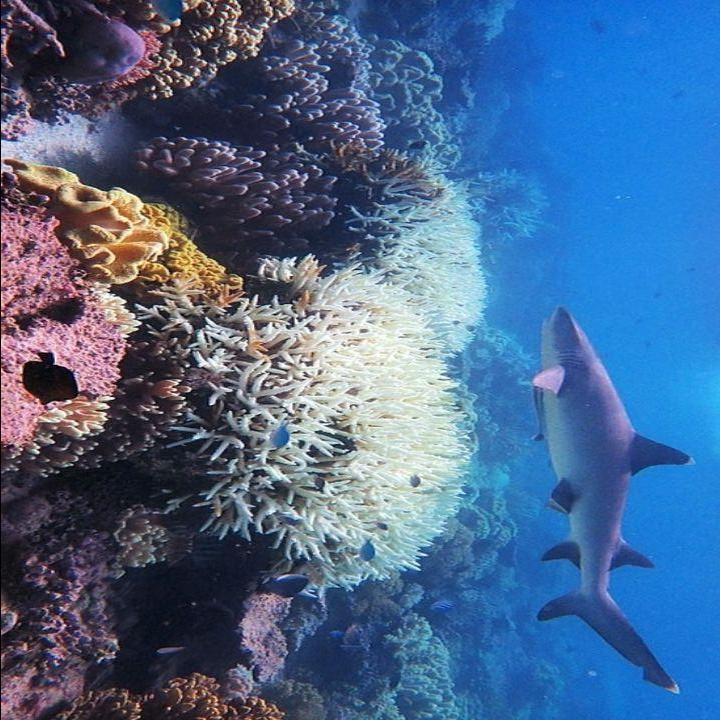Bleached disease: (189, 129, 486, 649)
